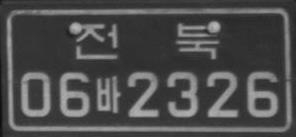0: (20, 70, 51, 117)
2: (126, 70, 159, 117), (205, 70, 238, 117)
3: (167, 70, 198, 118)
6: (246, 69, 279, 118), (59, 71, 90, 118)
바: (96, 75, 121, 114)
전북_D: (75, 22, 220, 59)
